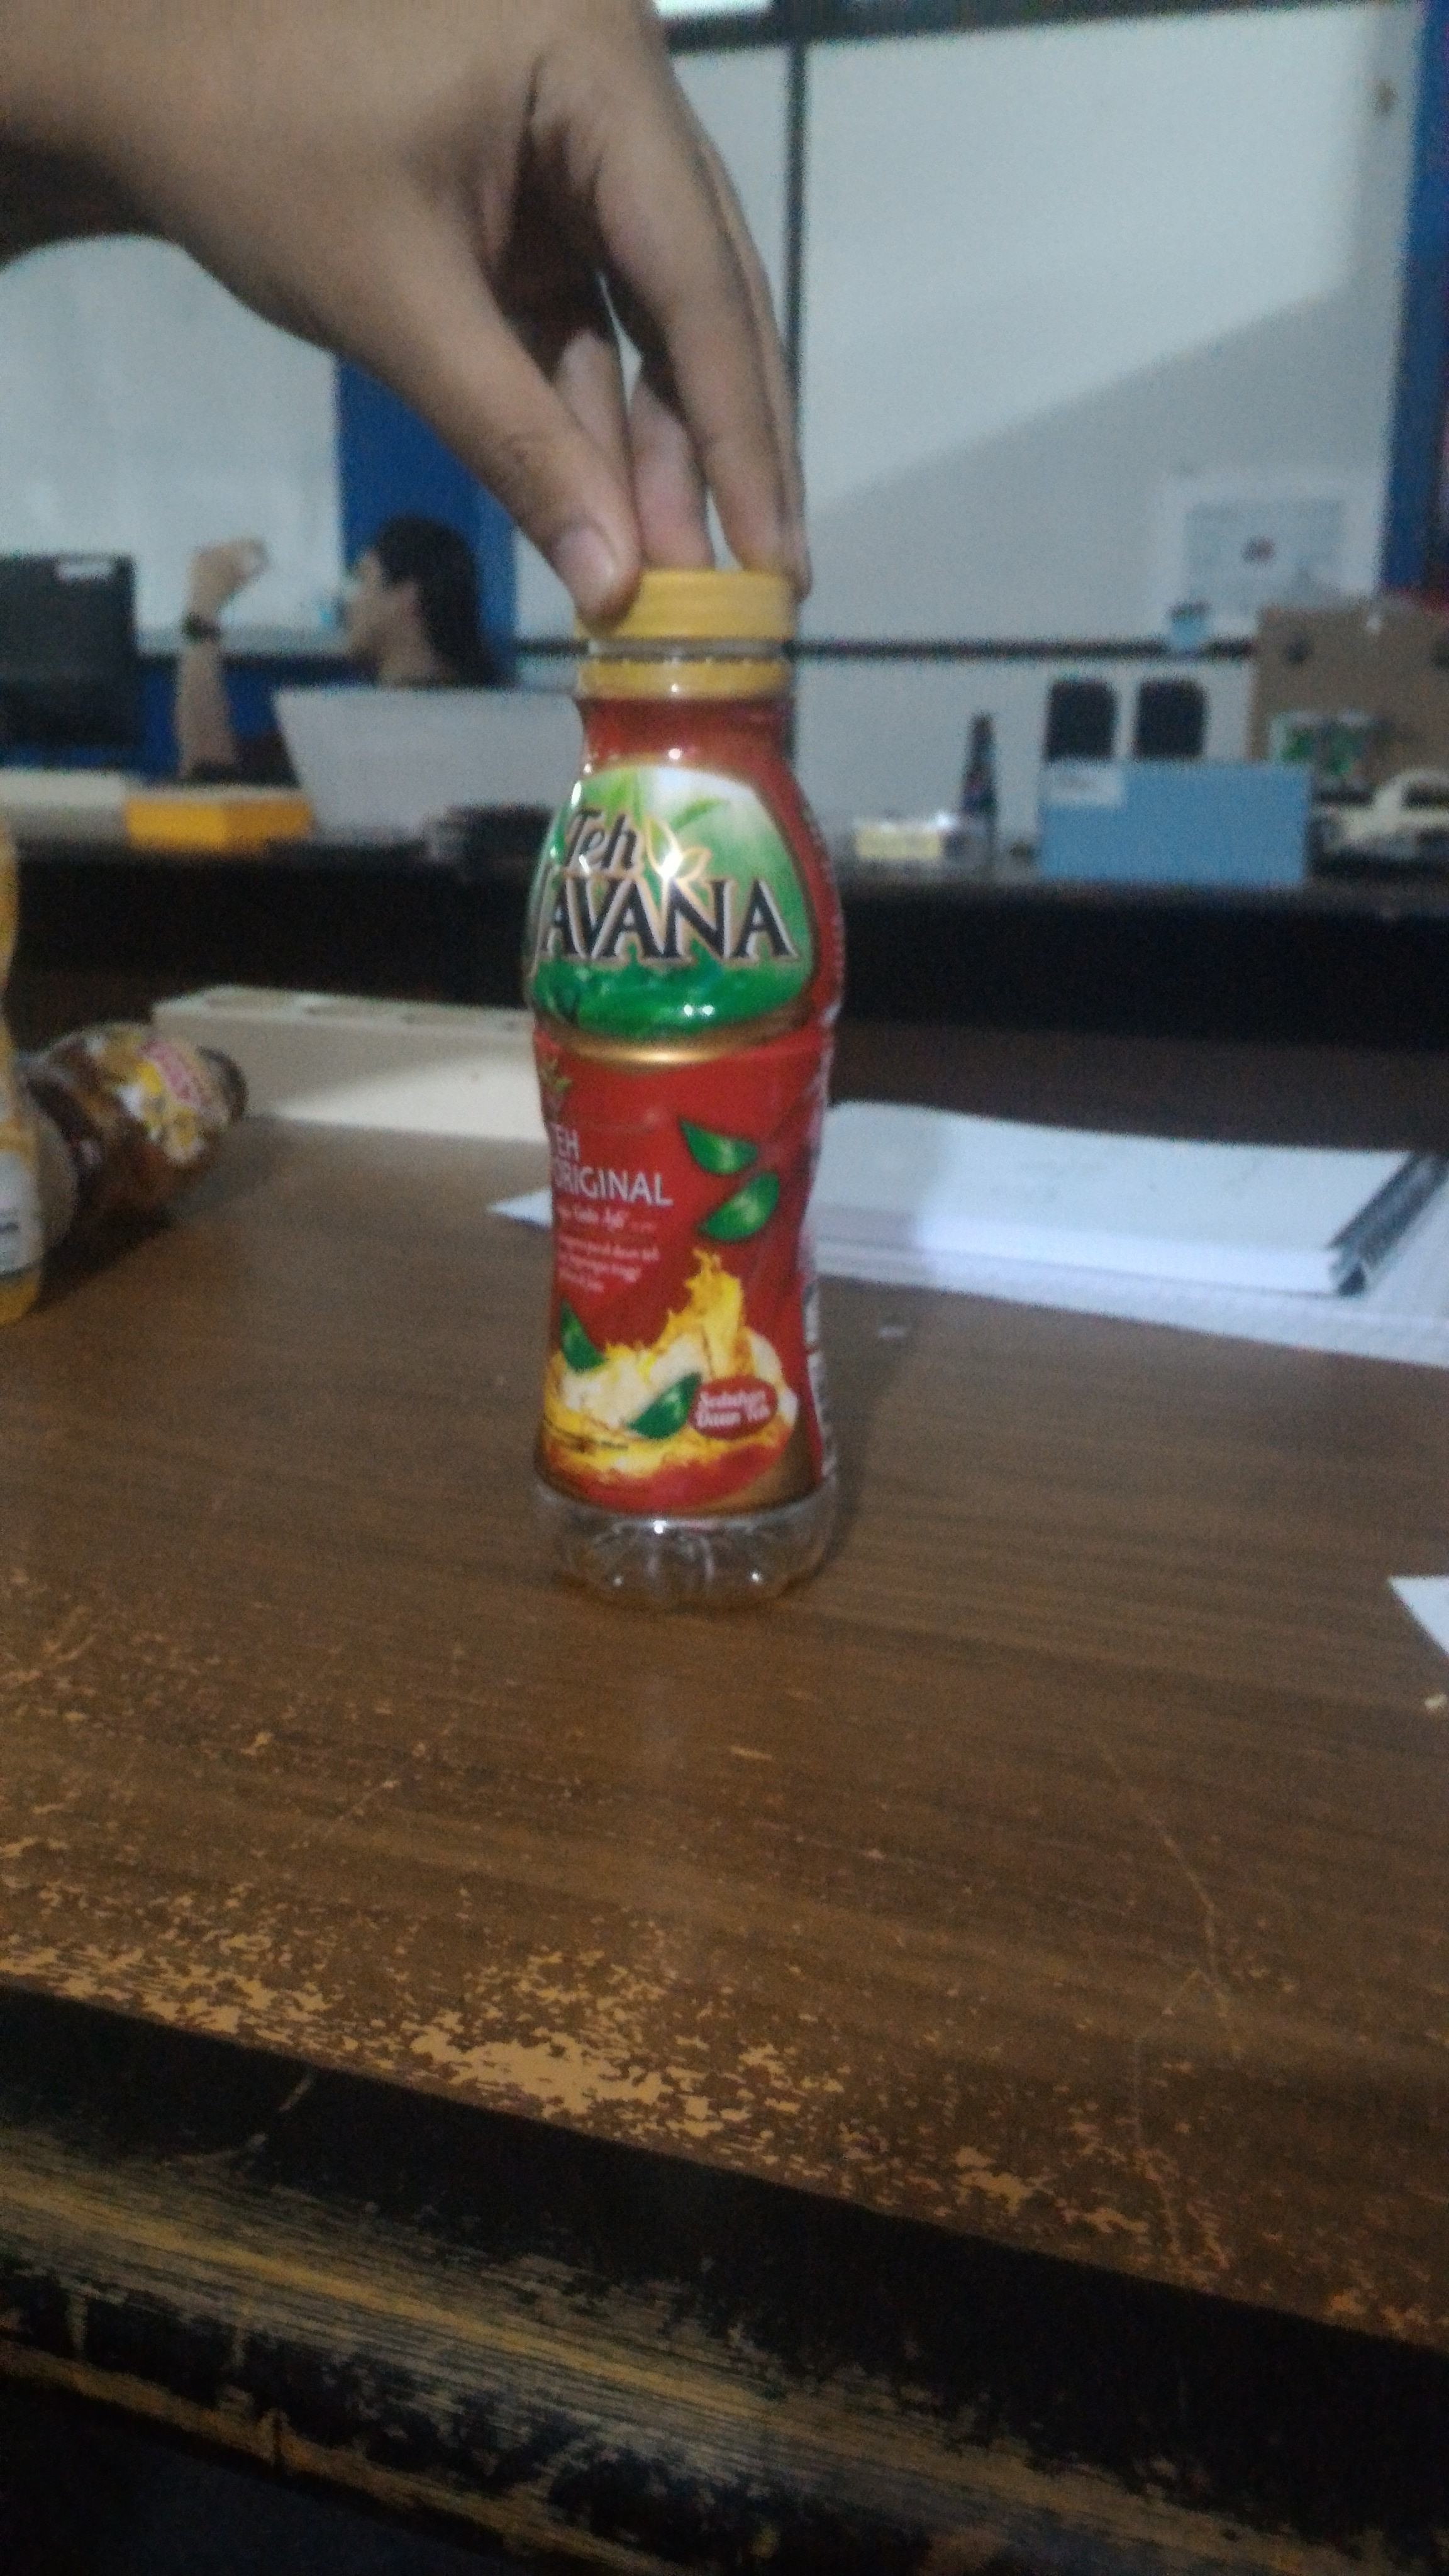botol: (524, 538, 846, 1619)
